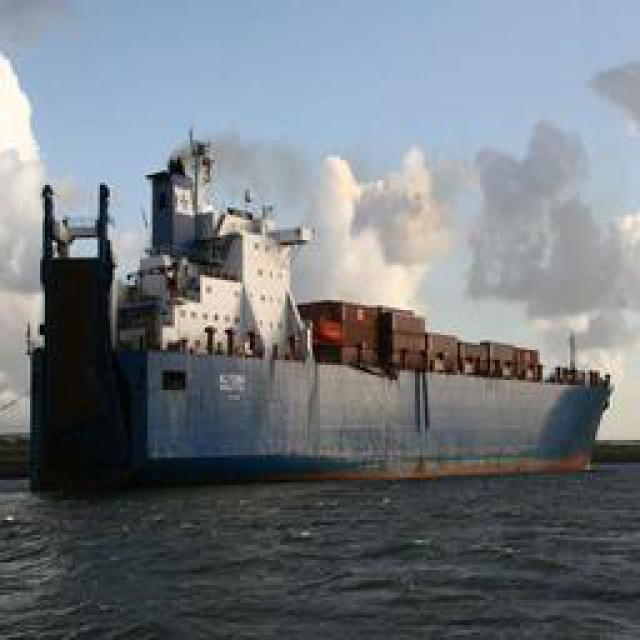Ship: (61, 185, 614, 488)
